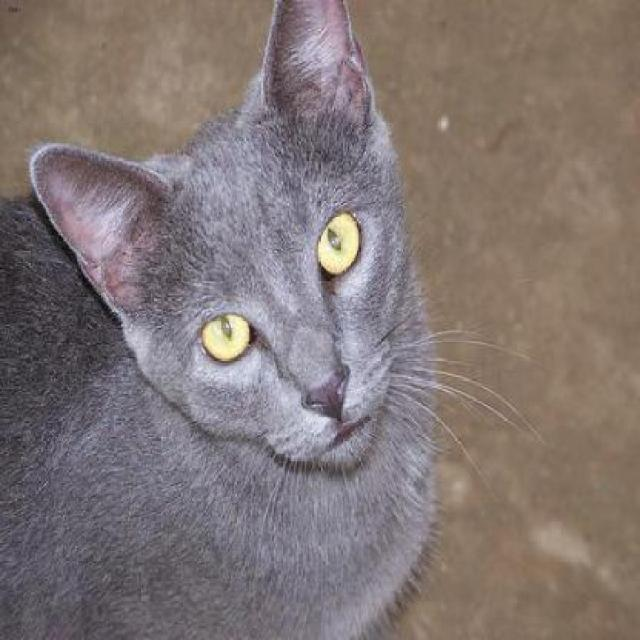cat: (0, 0, 434, 638)
